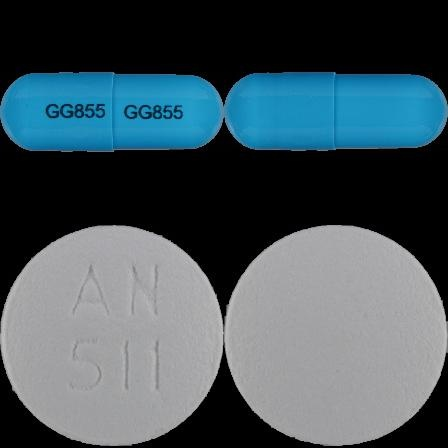50090-1702: (0, 0, 224, 224)
